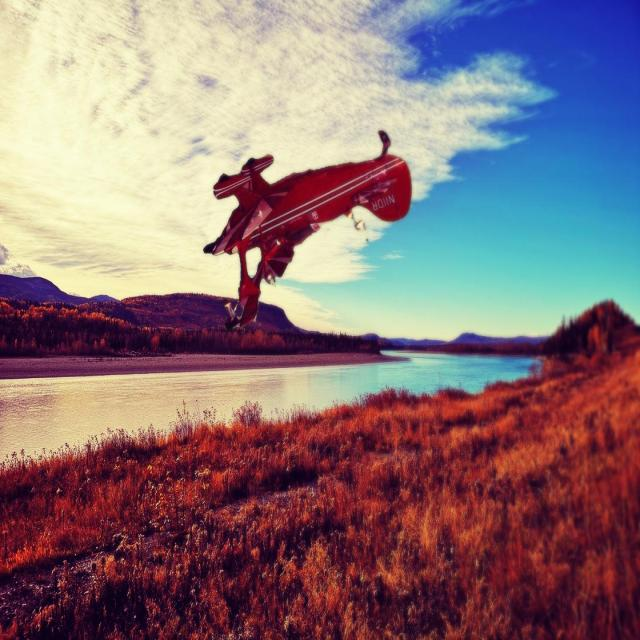airplane: (203, 128, 412, 330)
